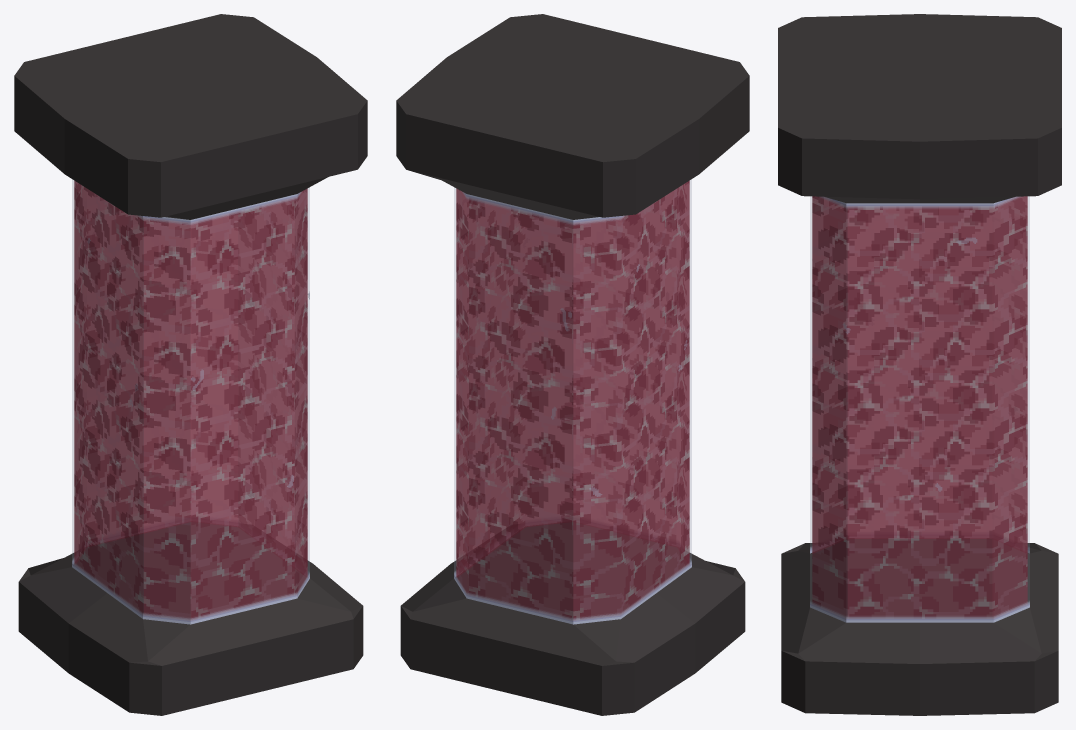
File: goal_tube_test_2.glb
The picture shows the model from 3 angles, left to right: view 1: azimuth 30°, elevation 25°; view 2: azimuth 150°, elevation 25°; view 3: azimuth 270°, elevation 25°; orthographic projection. The views are drawn at different scales.
Parts seen in each view (by area): view 1: GoalTubeHolder, GoalTubeInside, GoalTubeGlass; view 2: GoalTubeHolder, GoalTubeInside, GoalTubeGlass; view 3: GoalTubeHolder, GoalTubeInside, GoalTubeGlass.
Boxes of the visible parts, <box> form: GoalTubeHolder: <box>14,14,367,715</box>; GoalTubeInside: <box>74,180,307,620</box>; GoalTubeGlass: <box>72,179,309,624</box>; GoalTubeHolder: <box>396,14,749,715</box>; GoalTubeInside: <box>456,180,689,620</box>; GoalTubeGlass: <box>454,179,691,624</box>; GoalTubeHolder: <box>778,14,1061,715</box>; GoalTubeInside: <box>812,196,1027,618</box>; GoalTubeGlass: <box>810,196,1029,622</box>.
Size of the model in its own units: 2.52 by 5.31 by 2.37.
Materials: 3 (2 with a texture image).
